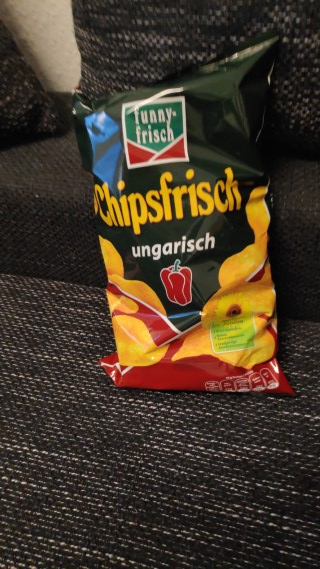chipsfrisch: (68, 30, 298, 399)
